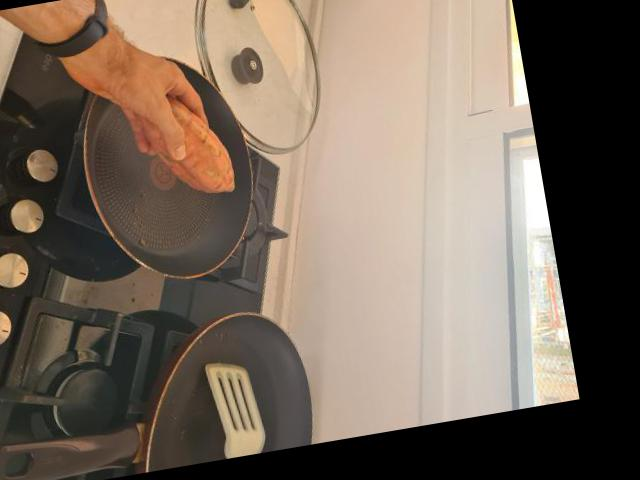sweet_potato: (128, 90, 237, 209)
